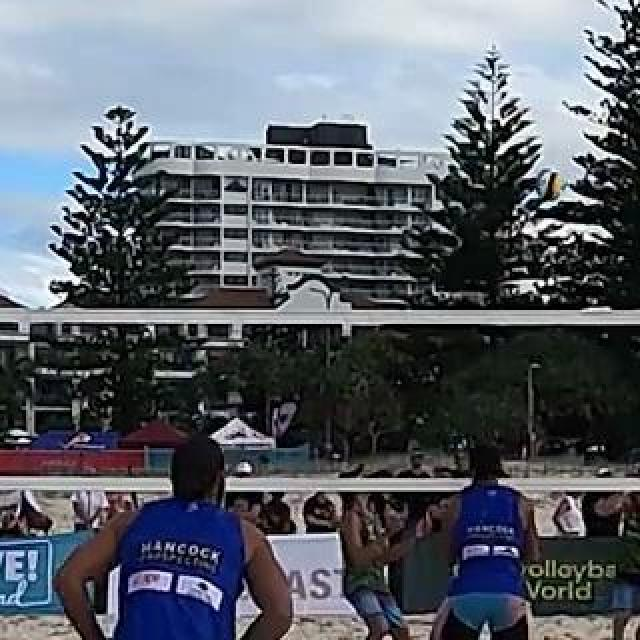volleyball: (539, 172, 563, 198)
